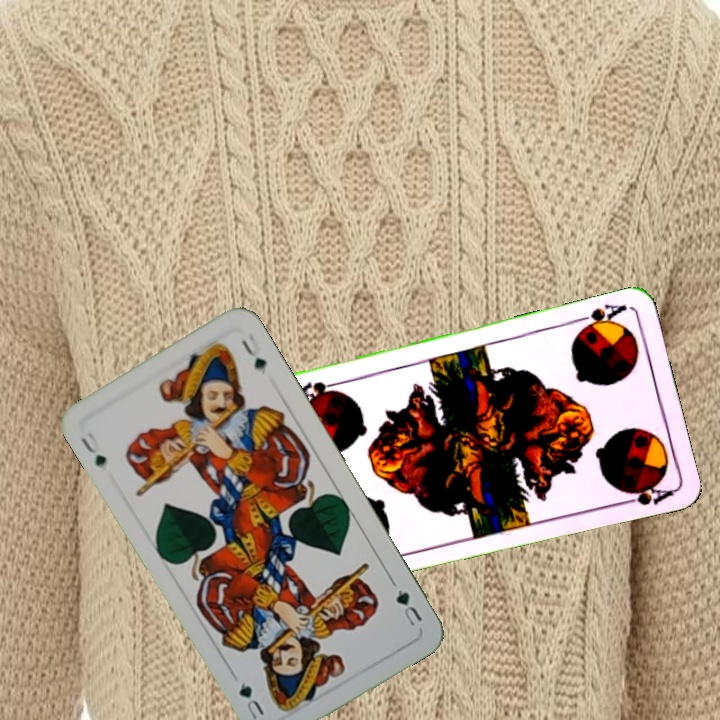GU: (391, 585, 425, 629), (76, 428, 109, 471)
SA: (571, 300, 630, 335)
